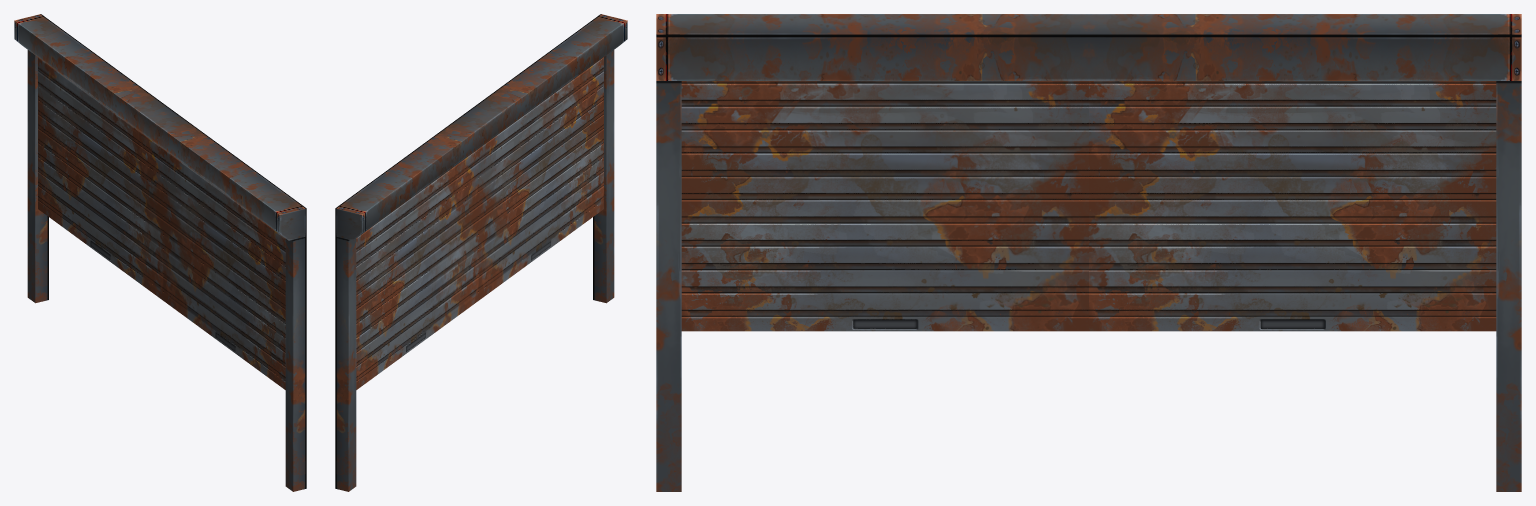
The model's file is rollerShutter03_6m.fbx.
3 renders of one model, left to right at view 1: azimuth 30°, elevation 25°; view 2: azimuth 150°, elevation 25°; view 3: azimuth 270°, elevation 25°, orthographic. The views are drawn at different scales.
Visible parts, largest first — view 1: rollerShutter03_6m; view 2: rollerShutter03_6m; view 3: rollerShutter03_6m.
Boxes of the visible parts, x1=… form: rollerShutter03_6m: x1=14, y1=14, x2=306, y2=491; rollerShutter03_6m: x1=335, y1=14, x2=627, y2=491; rollerShutter03_6m: x1=656, y1=14, x2=1521, y2=491.
Bounding box in the file's own units: 30 × 300 × 515.
